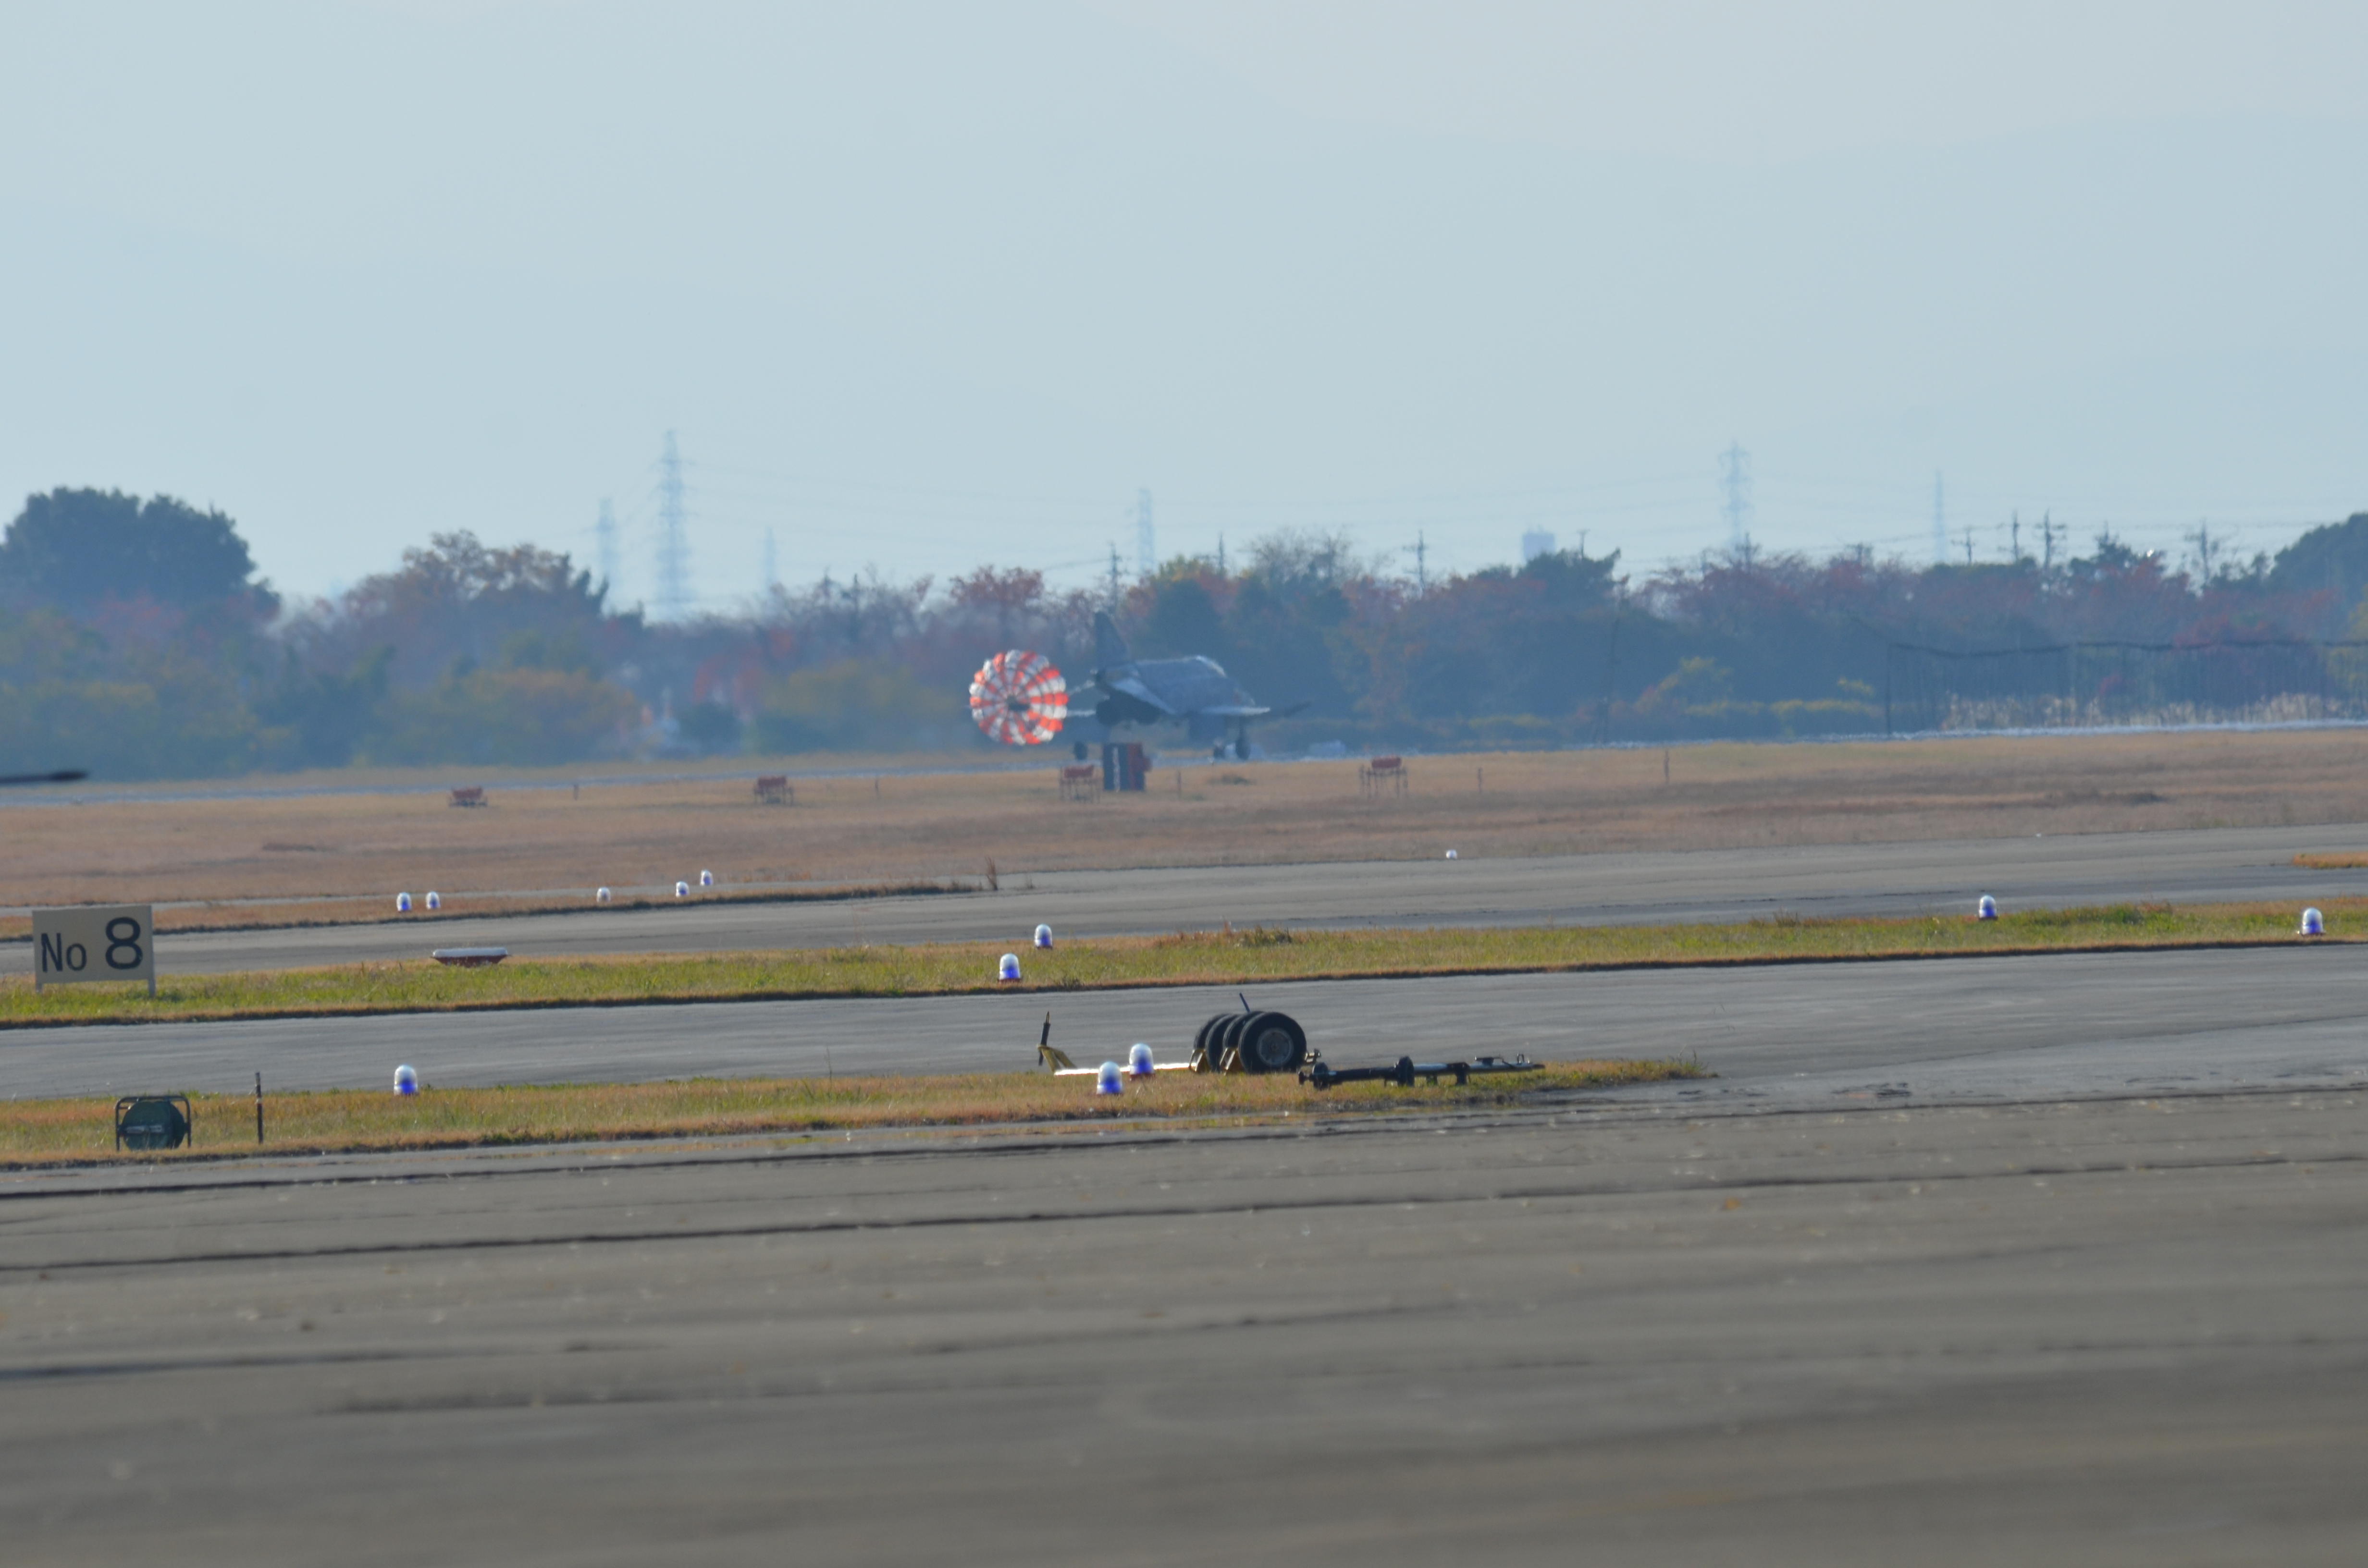F4: (961, 611, 1313, 763)
